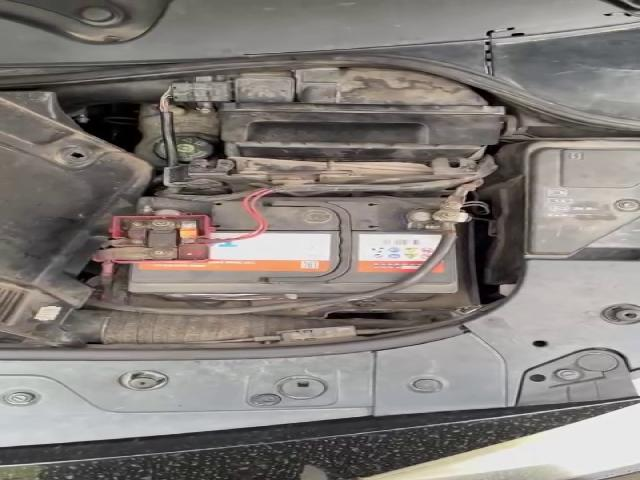accumulator: (92, 196, 473, 301)
fuse_box: (477, 140, 638, 284)
